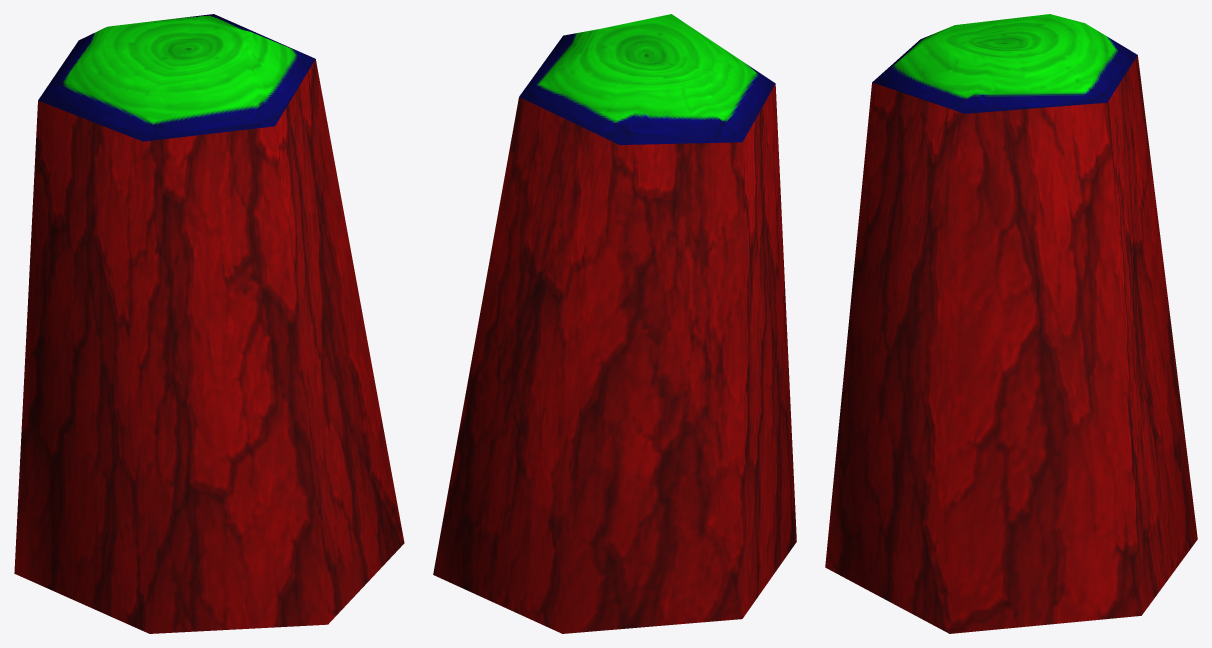
The model's file is OakStump01.fbx.
3 renders of one model, left to right at view 1: azimuth 30°, elevation 25°; view 2: azimuth 150°, elevation 25°; view 3: azimuth 270°, elevation 25°, orthographic. The views are drawn at different scales.
Visible parts, largest first — view 1: OakStump01_LOD0; view 2: OakStump01_LOD0; view 3: OakStump01_LOD0.
Boxes of the visible parts, x1,y1,x2,y2 form: OakStump01_LOD0: [14, 14, 404, 633]; OakStump01_LOD0: [433, 14, 796, 633]; OakStump01_LOD0: [825, 14, 1197, 633].
Size of what is drawn, in the model's own units: 0.4459 by 0.6948 by 0.4596.
